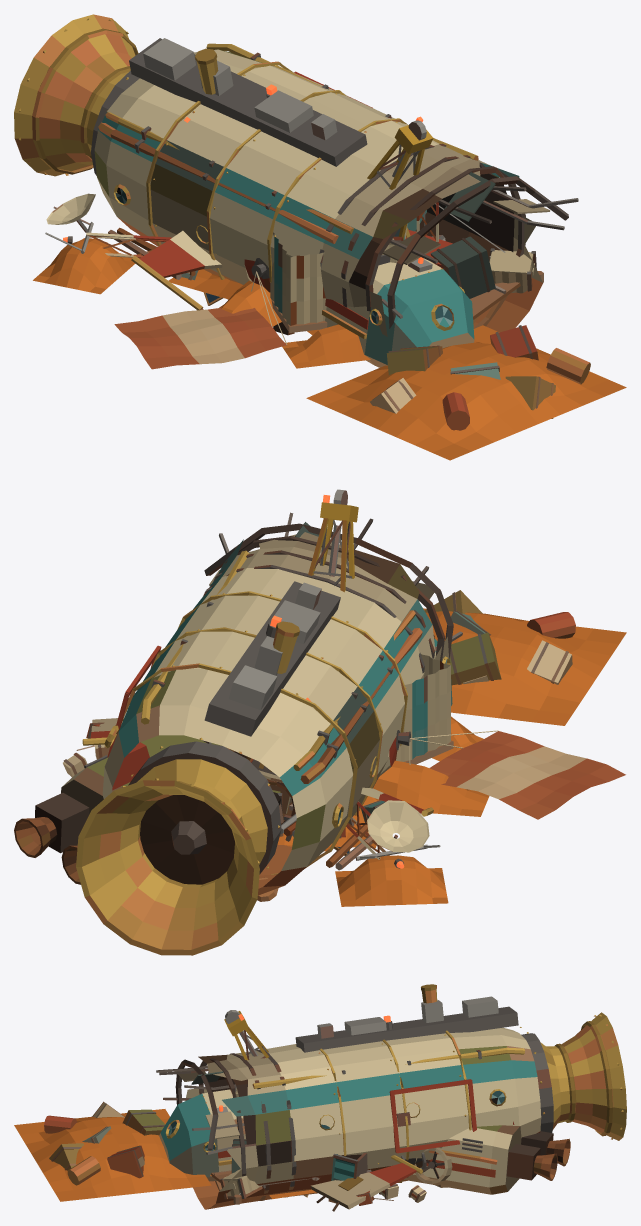
Rendered from crashsites.glb.
The picture shows the model from 3 angles, top to bottom: view 1: azimuth 30°, elevation 25°; view 2: azimuth 150°, elevation 25°; view 3: azimuth 270°, elevation 25°; orthographic projection. The views are drawn at different scales.
Visible parts, largest first — view 1: Crash_Freighter, Crash_Mast, Crash_CargoPod, Crash_Shuttle, Crash_Fighter, Crash_Drill, Crash_Nacelle; view 2: Crash_Freighter, Crash_CargoPod, Crash_Mast, Crash_Shuttle, Crash_Drill, Crash_Fighter, Crash_Nacelle; view 3: Crash_Freighter, Crash_Shuttle, Crash_Fighter, Crash_CargoPod, Crash_Drill, Crash_Skiff.
Boxes of the visible parts, left/top/right/bottom form: Crash_Freighter: left=14, top=14, right=626, bottom=460; Crash_Mast: left=33, top=193, right=543, bottom=368; Crash_CargoPod: left=114, top=210, right=536, bottom=369; Crash_Shuttle: left=227, top=244, right=474, bottom=367; Crash_Fighter: left=131, top=117, right=222, bottom=310; Crash_Drill: left=108, top=116, right=445, bottom=279; Crash_Nacelle: left=168, top=227, right=410, bottom=335; Crash_Freighter: left=76, top=512, right=626, bottom=955; Crash_CargoPod: left=63, top=693, right=625, bottom=819; Crash_Mast: left=76, top=654, right=483, bottom=906; Crash_Shuttle: left=14, top=638, right=452, bottom=901; Crash_Drill: left=280, top=489, right=373, bottom=870; Crash_Fighter: left=82, top=697, right=433, bottom=816; Crash_Nacelle: left=267, top=779, right=376, bottom=847; Crash_Freighter: left=14, top=984, right=626, bottom=1209; Crash_Shuttle: left=159, top=1087, right=570, bottom=1194; Crash_Fighter: left=269, top=1155, right=422, bottom=1211; Crash_CargoPod: left=220, top=1153, right=457, bottom=1205; Crash_Drill: left=224, top=1010, right=426, bottom=1180; Crash_Skiff: left=414, top=1147, right=452, bottom=1184.
Bounding box in the file's own units: 13.7 × 8.33 × 23.56.
